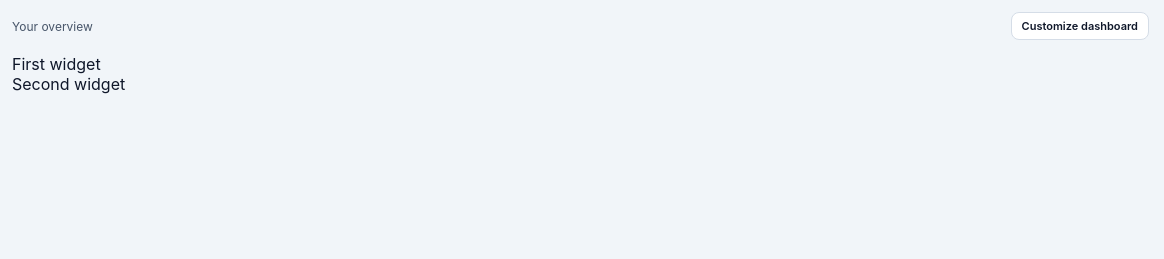
it: persists widget order and width for each signed-in user
Later steps or results of the test are not shown.
Click the button "Customize dashboard" at (1080, 26), box [1011, 12, 1149, 40]
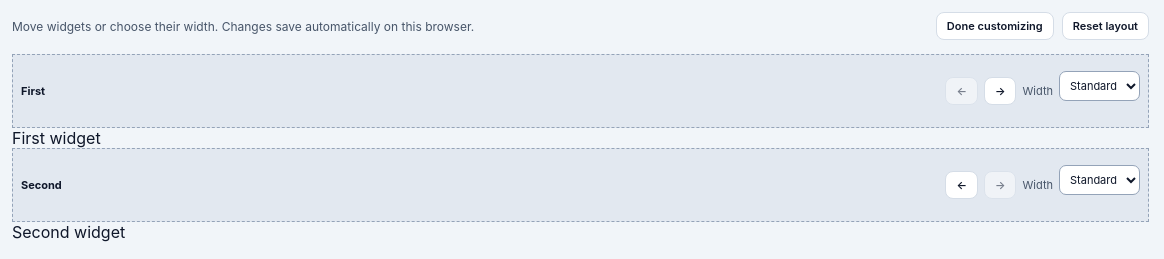
Click the button named "Move Second earlier" at (962, 185), box [946, 171, 978, 199]
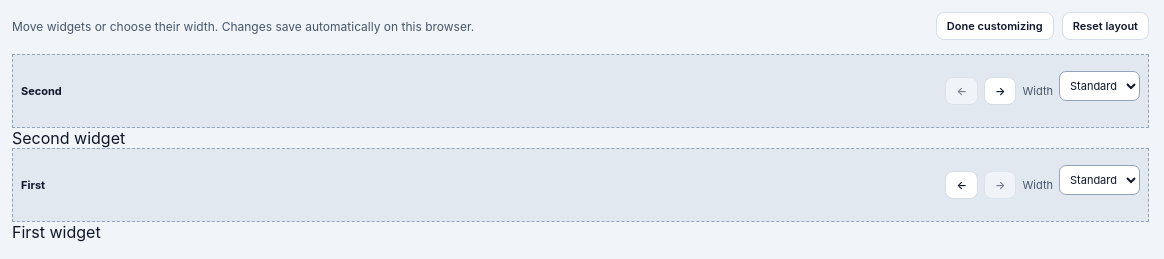
Select "Full row" in the dropdown named "Second width" at (1100, 86), box [1059, 71, 1140, 101]
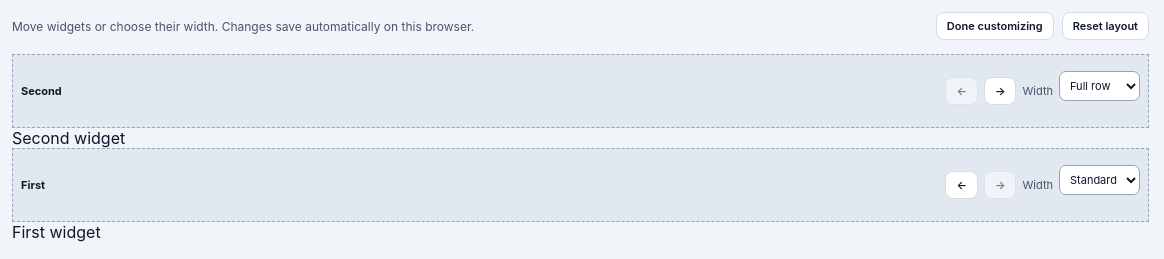
Now the element with class "dashboard-widget" has class "widget-wide", box [12, 54, 1149, 148]
